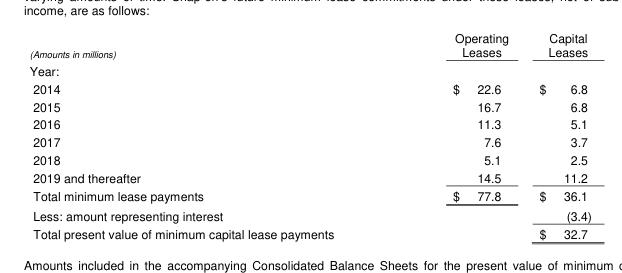table: (28, 28, 590, 242)
table column: (28, 28, 392, 242), (392, 28, 523, 242), (523, 28, 590, 242)
table column header: (28, 28, 590, 60)
table projected row header: (28, 60, 590, 78)
table row: (28, 28, 590, 60), (28, 186, 590, 205), (28, 205, 590, 224), (28, 60, 590, 78), (28, 78, 590, 96), (28, 96, 590, 114), (28, 114, 590, 132), (28, 132, 590, 150), (28, 150, 590, 168), (28, 168, 590, 186), (28, 224, 590, 242)
